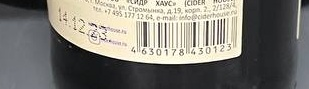1d: (135, 16, 238, 48)
